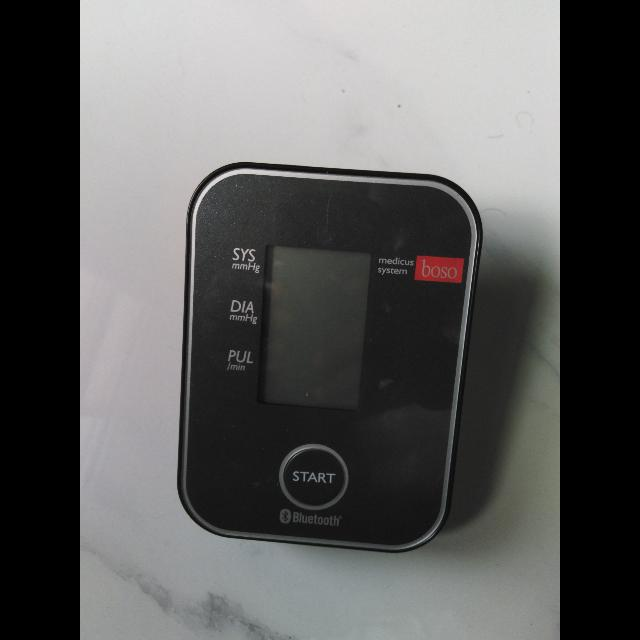Blood-Pressure-Monitor: (148, 142, 500, 552)
